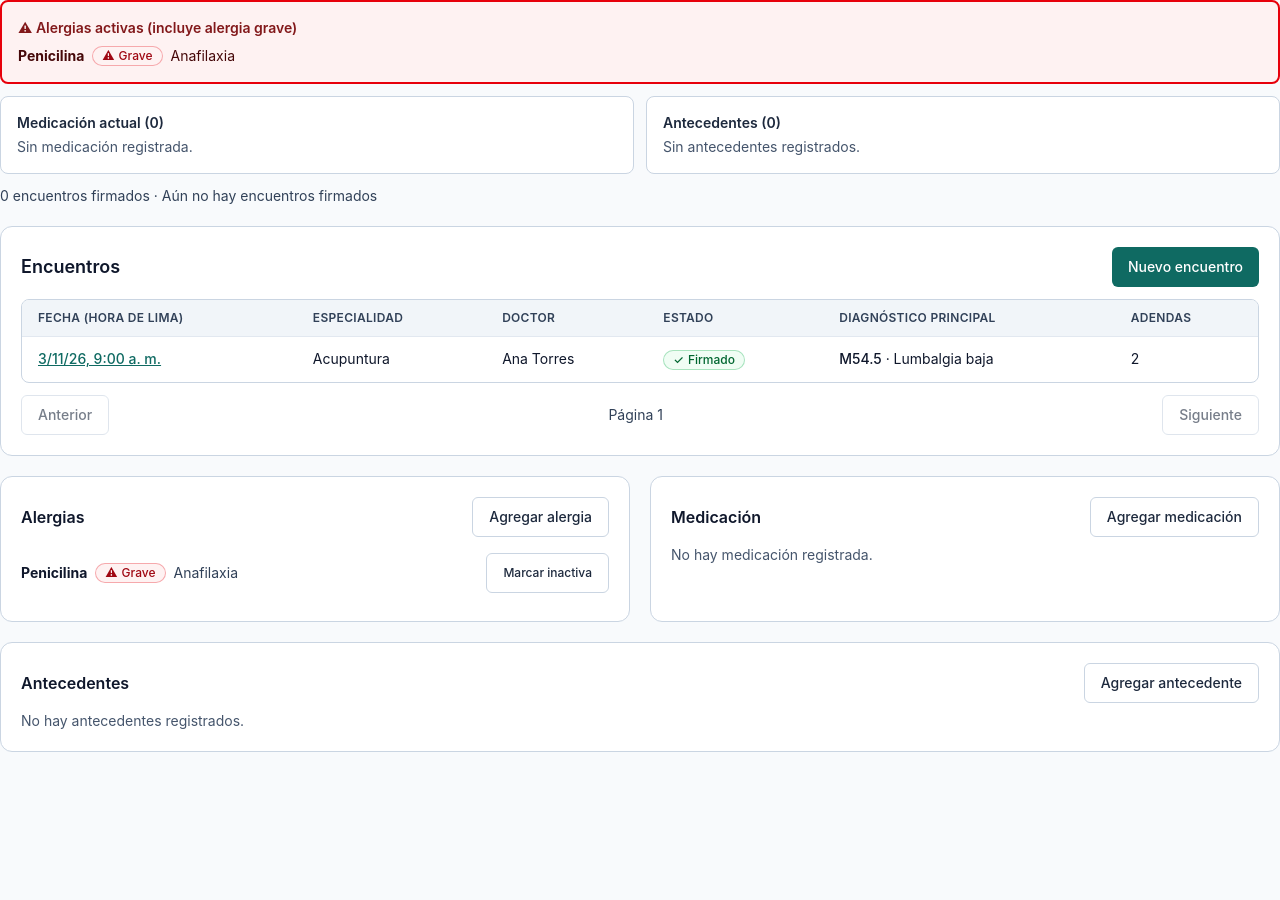
Test case: ClinicalHistoryTab: antecedentes › el doctor da de alta una alergia y la marca inactiva; NO existe borrar
Later steps or results of the test are not shown.
Step 1. Click the button "Agregar alergia" → (541,517), box [472,497,609,537]
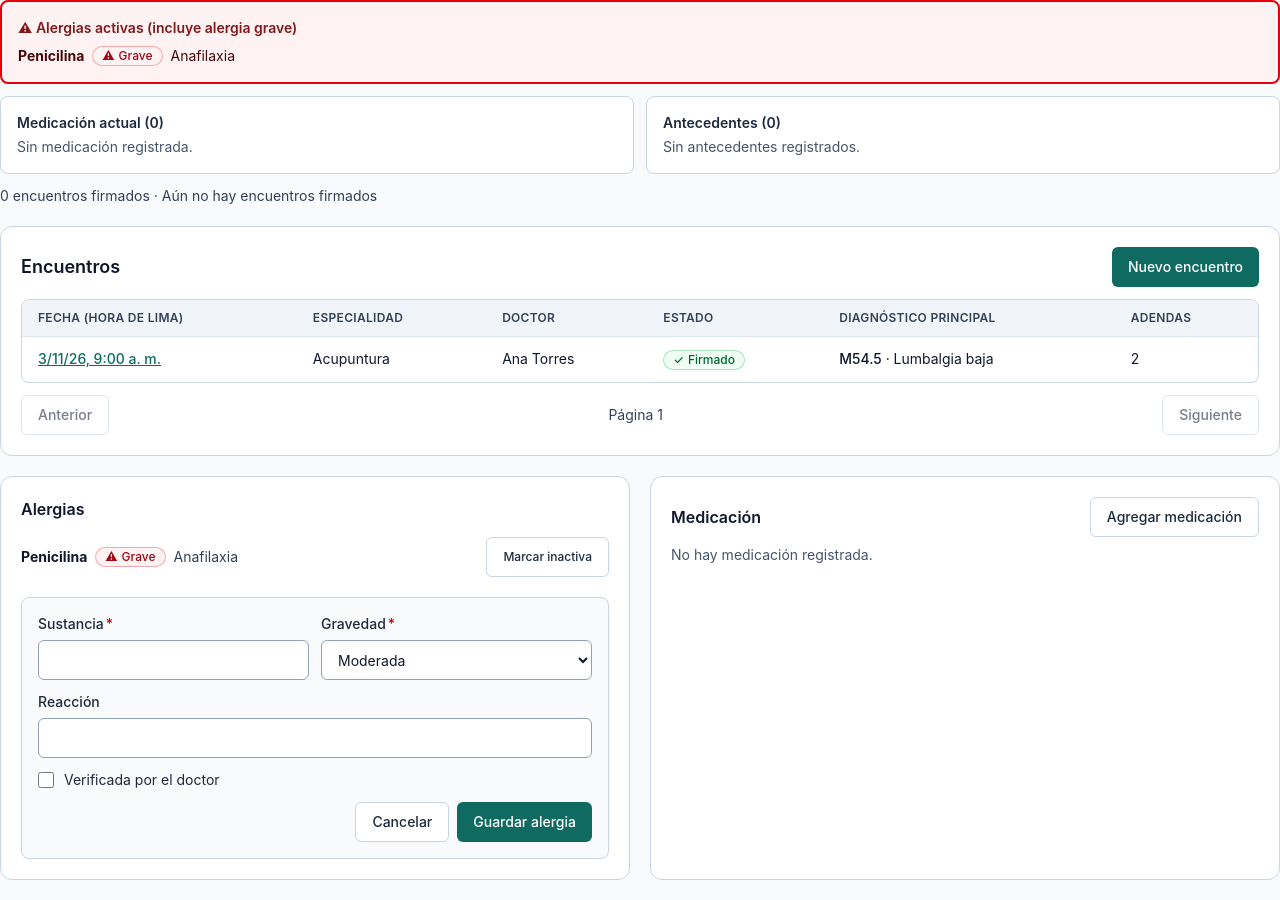
Step 2. Click the button "Guardar alergia" → (525,822), box [457,802,592,842]
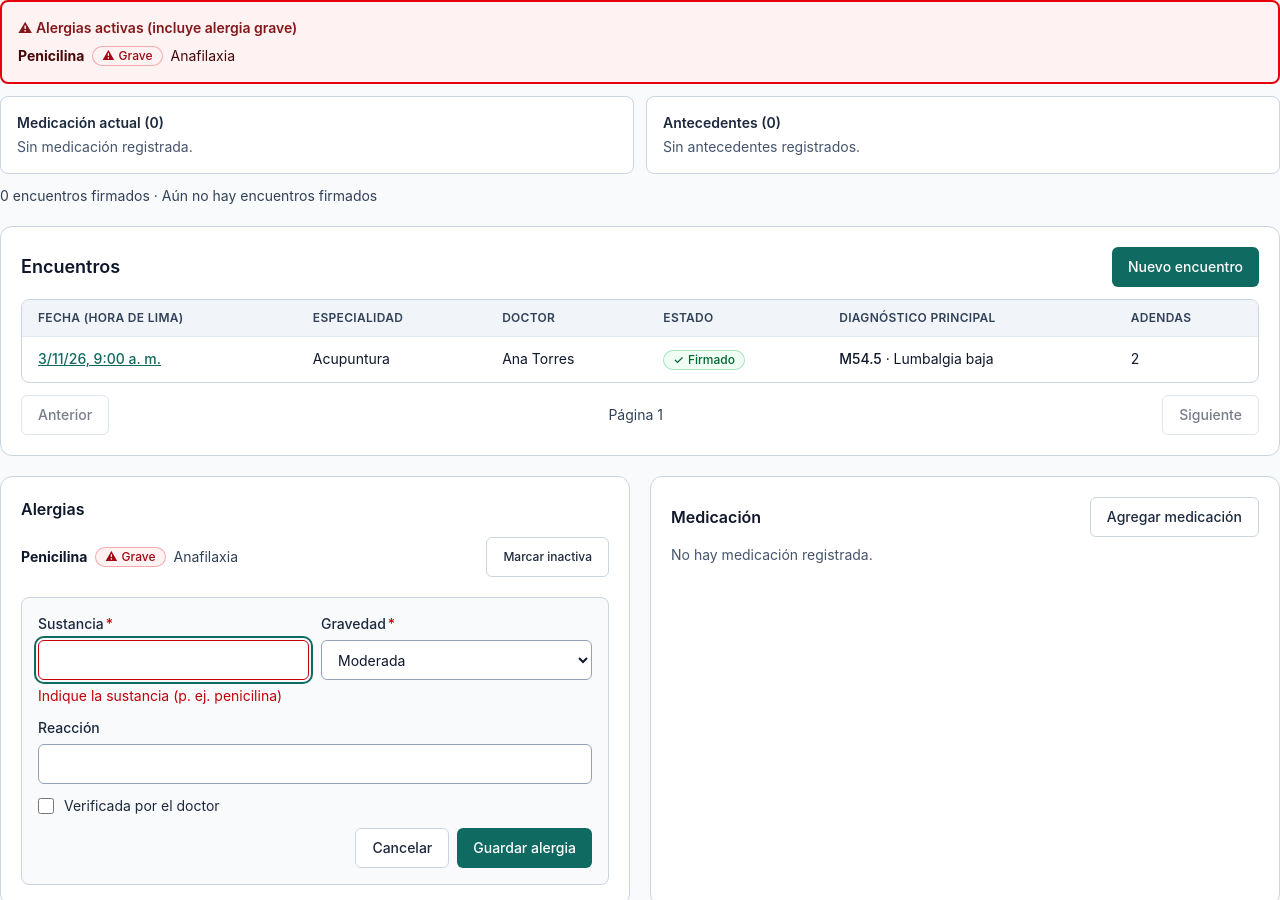
Result: the text "Indique la sustancia (p. ej. penicilina)" is shown at [38,686,309,706]
